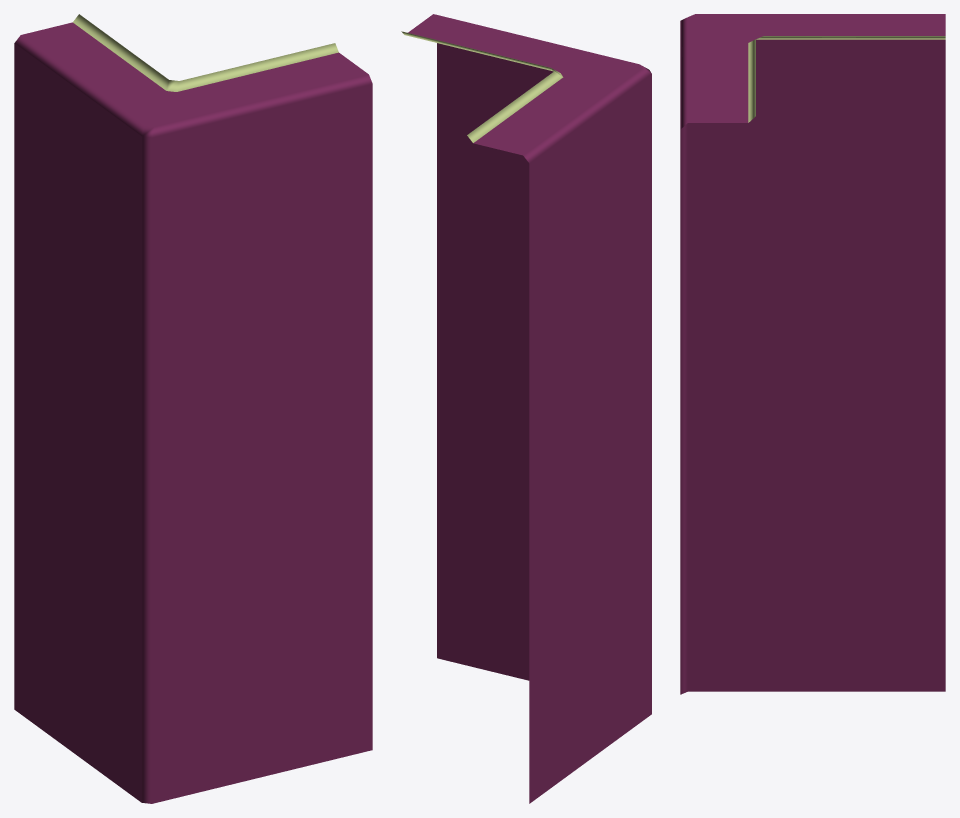
The model's file is SocketOut_CornerOut_0.35x1.0.obj.
The picture shows the model from 3 angles, left to right: view 1: azimuth 30°, elevation 25°; view 2: azimuth 150°, elevation 25°; view 3: azimuth 270°, elevation 25°; orthographic projection. The views are drawn at different scales.
Parts seen in each view (by area): view 1: SocketOut_CornerOut_0.35x1.0; view 2: SocketOut_CornerOut_0.35x1.0; view 3: SocketOut_CornerOut_0.35x1.0.
Part boxes in pixels (x1,y1,x2,y2): SocketOut_CornerOut_0.35x1.0: (14,14,372,803); SocketOut_CornerOut_0.35x1.0: (401,14,651,803); SocketOut_CornerOut_0.35x1.0: (680,14,945,694).
Bounding box in the file's own units: 0.35 × 1 × 0.35.
